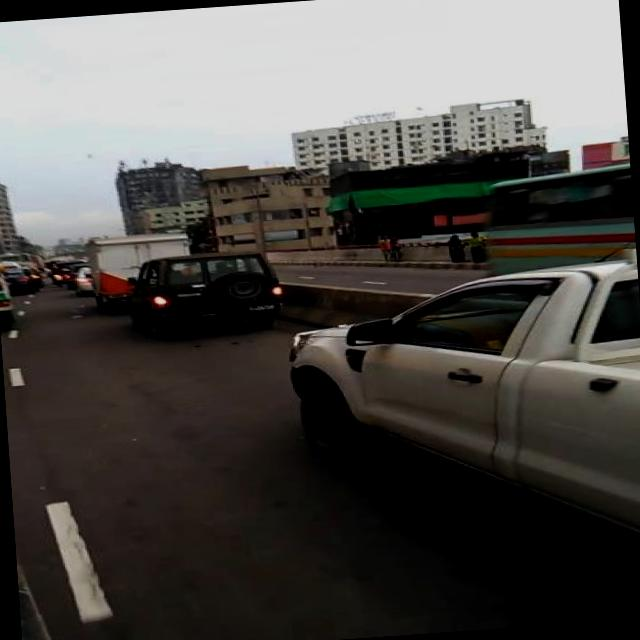truck: (272, 248, 640, 569), (121, 245, 289, 342)
